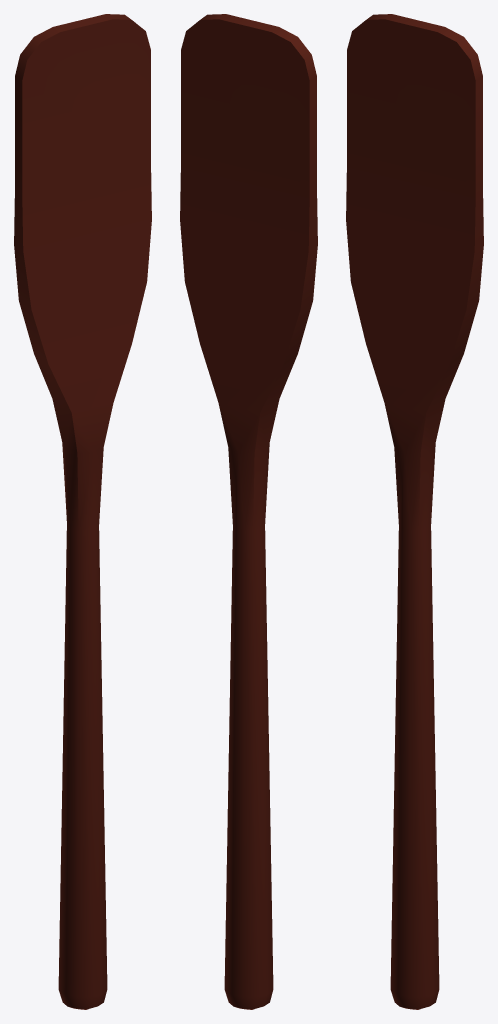
File: oar.obj
3 views of the same model, side by side, from view 1: azimuth 30°, elevation 25°; view 2: azimuth 150°, elevation 25°; view 3: azimuth 330°, elevation 25° (orthographic).
Visible parts, largest first — view 1: oar_Cube.120; view 2: oar_Cube.120; view 3: oar_Cube.120.
Part boxes in pixels (x1,y1,x2,y2): oar_Cube.120: (14, 14, 151, 1009); oar_Cube.120: (180, 14, 317, 1009); oar_Cube.120: (346, 14, 483, 1009).
Size of the model in its own units: 0.2542 by 1.85 by 0.0833.
